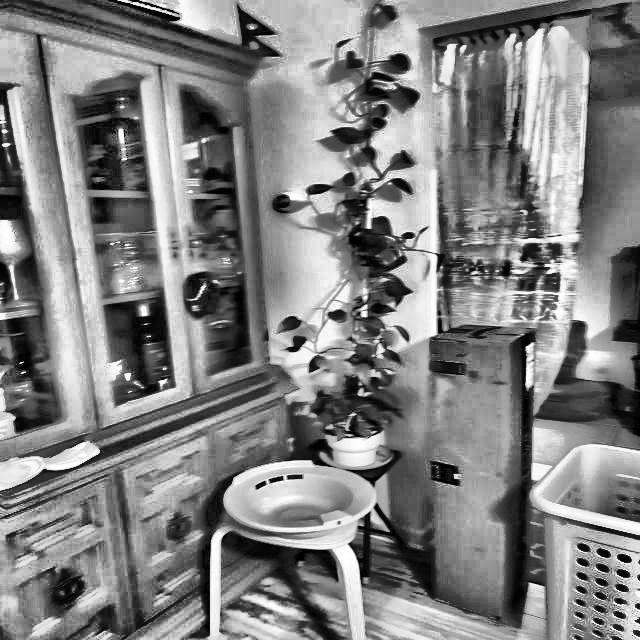plants: (323, 116, 423, 420)
